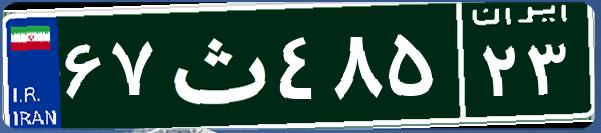2: (475, 38, 525, 113)
3: (525, 38, 570, 115)
4: (273, 28, 330, 110)
5: (385, 28, 445, 110)
6: (57, 26, 110, 107)
7: (110, 28, 158, 105)
8: (330, 28, 385, 110)
ث: (158, 15, 273, 115)
